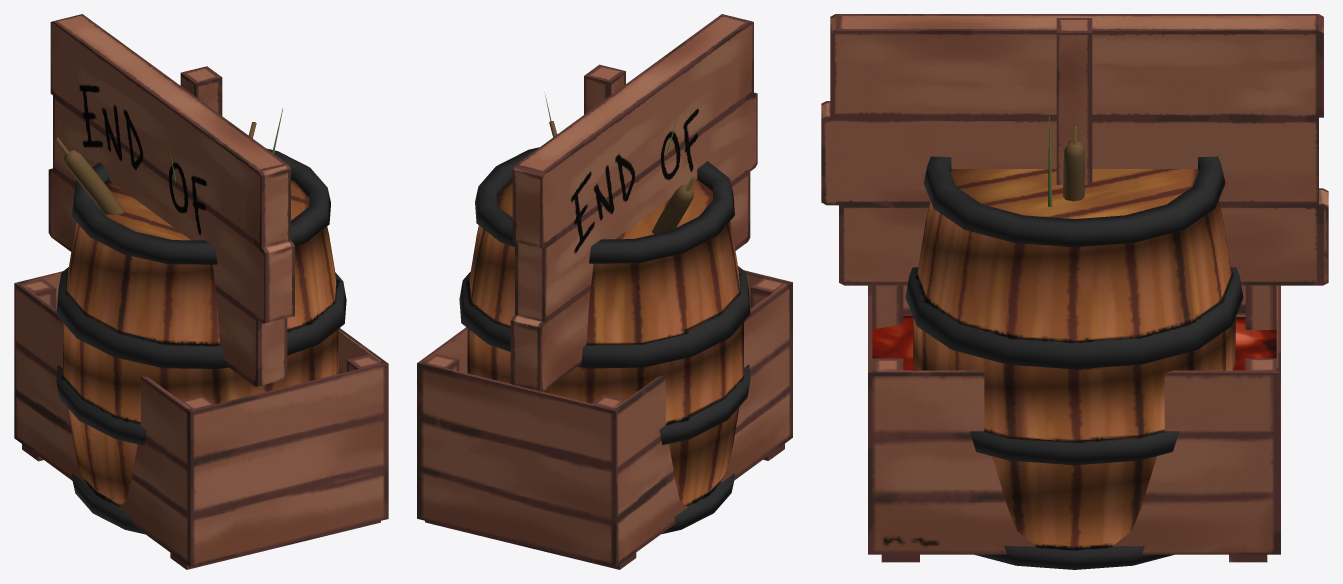
The model's file is Props.fbx.
The picture shows the model from 3 angles, left to right: view 1: azimuth 30°, elevation 25°; view 2: azimuth 150°, elevation 25°; view 3: azimuth 270°, elevation 25°; orthographic projection. The views are drawn at different scales.
Visible parts, largest first — view 1: Box, Cartel, BarrelBody, BarrelLid, Catail_.002; view 2: Box, Cartel, BarrelBody, BarrelLid, Catail_.002; view 3: Cartel, BarrelBody, Box, BarrelLid, Content, Catail_.
Boxes of the visible parts, x1,y1,x2,y2 form: Box: (14, 271, 388, 569); Cartel: (48, 14, 294, 386); BarrelBody: (56, 148, 346, 534); BarrelLid: (105, 180, 309, 240); Catail_.002: (55, 137, 124, 214); Box: (417, 270, 792, 569); Cartel: (510, 14, 757, 392); BarrelBody: (459, 147, 750, 534); BarrelLid: (496, 179, 713, 239); Catail_.002: (652, 176, 696, 234); Cartel: (821, 14, 1328, 285); BarrelBody: (905, 156, 1243, 569); Box: (868, 285, 1280, 562); BarrelLid: (950, 169, 1198, 218); Content: (872, 316, 1276, 370); Catail_: (1063, 125, 1084, 201).
Size of the model in its own units: 85.83 by 141 by 129.
